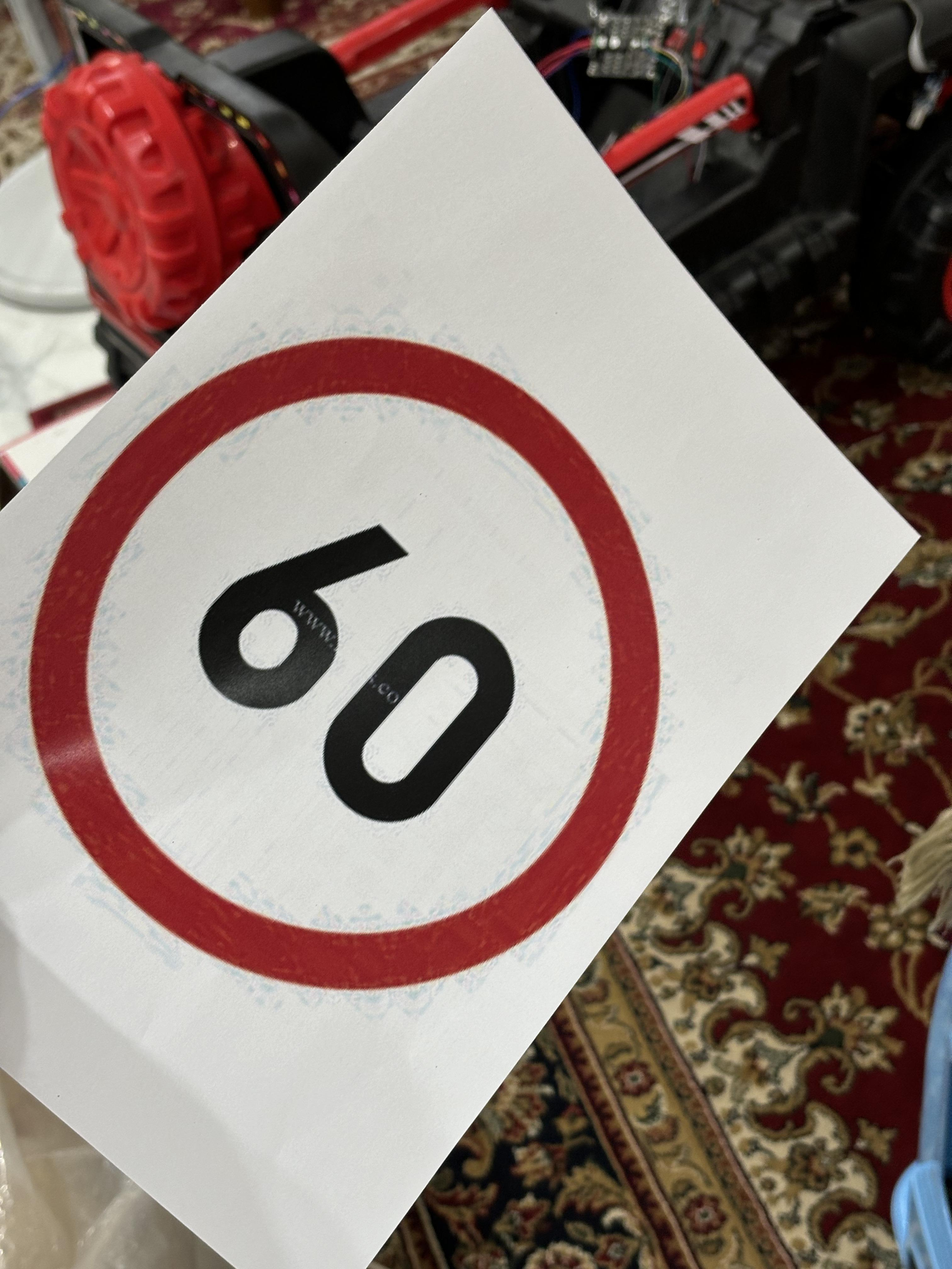60-Speed: (26, 337, 682, 999)
